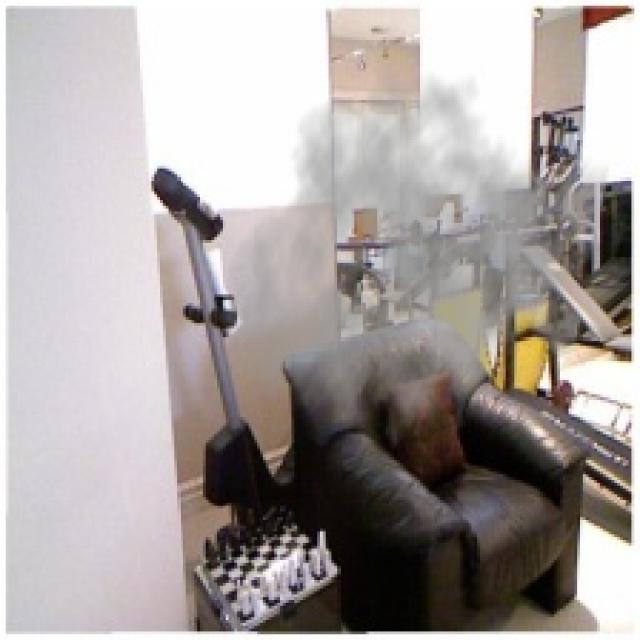smoke: (220, 54, 611, 469)
